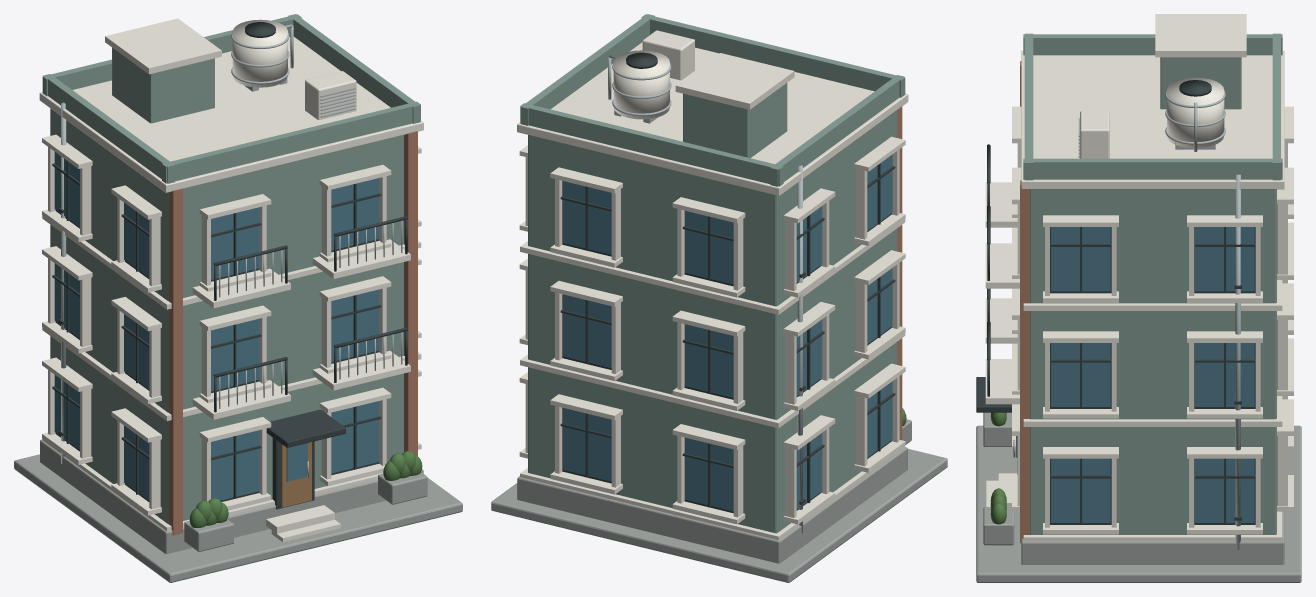
Rendered from site-apartment-mid.glb.
3 renders of one model, left to right at view 1: azimuth 30°, elevation 25°; view 2: azimuth 150°, elevation 25°; view 3: azimuth 270°, elevation 25°, orthographic. The views are drawn at different scales.
Parts seen in each view (by area): view 1: site-apartment-mid_Warm_white_precast, site-apartment-mid_Sage_ceramic_cladding, site-apartment-mid_Blue_reflective_glazing, site-apartment-mid_Honed_grey_sandstone, site-apartment-mid_Anthracite_anodized_metal, site-apartment-mid_Terracotta_brick, site-apartment-mid_Galvanized_brushed_steel, site-apartment-mid_Garden_evergreen, site-apartment-mid_Weathered_warm_teak; view 2: site-apartment-mid_Sage_ceramic_cladding, site-apartment-mid_Warm_white_precast, site-apartment-mid_Blue_reflective_glazing, site-apartment-mid_Honed_grey_sandstone, site-apartment-mid_Anthracite_anodized_metal, site-apartment-mid_Galvanized_brushed_steel, site-apartment-mid_Terracotta_brick; view 3: site-apartment-mid_Warm_white_precast, site-apartment-mid_Sage_ceramic_cladding, site-apartment-mid_Blue_reflective_glazing, site-apartment-mid_Honed_grey_sandstone, site-apartment-mid_Anthracite_anodized_metal, site-apartment-mid_Terracotta_brick, site-apartment-mid_Galvanized_brushed_steel, site-apartment-mid_Garden_evergreen.
Part boxes in pixels (x1,y1,x2,y2): site-apartment-mid_Warm_white_precast: (39, 18, 423, 542); site-apartment-mid_Sage_ceramic_cladding: (42, 14, 420, 523); site-apartment-mid_Blue_reflective_glazing: (54, 152, 379, 500); site-apartment-mid_Honed_grey_sandstone: (14, 439, 462, 582); site-apartment-mid_Anthracite_anodized_metal: (52, 22, 407, 509); site-apartment-mid_Terracotta_brick: (168, 131, 417, 535); site-apartment-mid_Galvanized_brushed_steel: (61, 24, 402, 477); site-apartment-mid_Garden_evergreen: (189, 450, 422, 527); site-apartment-mid_Weathered_warm_teak: (280, 442, 311, 507); site-apartment-mid_Sage_ceramic_cladding: (520, 14, 905, 533); site-apartment-mid_Warm_white_precast: (517, 30, 908, 540); site-apartment-mid_Blue_reflective_glazing: (562, 154, 892, 511); site-apartment-mid_Honed_grey_sandstone: (491, 419, 947, 582); site-apartment-mid_Anthracite_anodized_metal: (560, 52, 895, 513); site-apartment-mid_Galvanized_brushed_steel: (608, 55, 802, 532); site-apartment-mid_Terracotta_brick: (897, 106, 902, 440); site-apartment-mid_Warm_white_precast: (985, 14, 1293, 540); site-apartment-mid_Sage_ceramic_cladding: (1023, 33, 1282, 534); site-apartment-mid_Blue_reflective_glazing: (1016, 227, 1254, 522); site-apartment-mid_Honed_grey_sandstone: (976, 412, 1301, 582); site-apartment-mid_Anthracite_anodized_metal: (976, 80, 1277, 524); site-apartment-mid_Terracotta_brick: (1020, 61, 1029, 543); site-apartment-mid_Galvanized_brushed_steel: (1013, 90, 1240, 550); site-apartment-mid_Garden_evergreen: (990, 412, 1006, 524).
Bounding box in the file's own units: 4.55 × 6.47 × 4.2.
